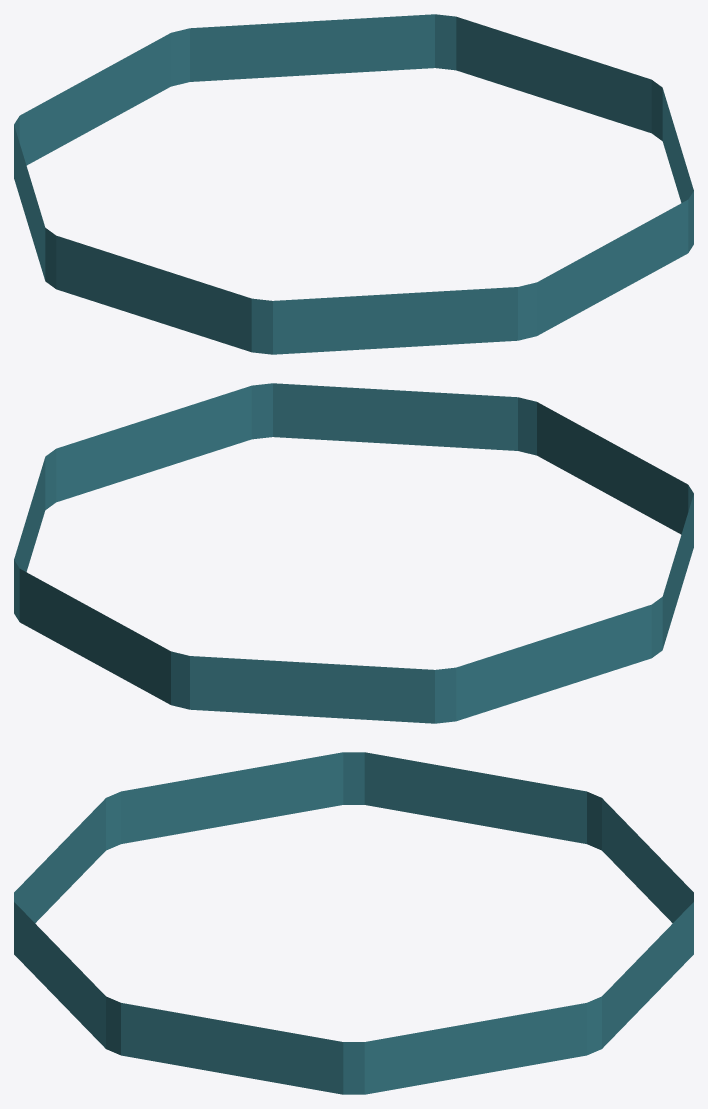
Rendered from Cenario_Jogo_Final_Paredes_True.fbx.
The picture shows the model from 3 angles, top to bottom: view 1: azimuth 30°, elevation 25°; view 2: azimuth 150°, elevation 25°; view 3: azimuth 270°, elevation 25°; orthographic projection. The views are drawn at different scales.
Parts seen in each view (by area): view 1: Paredes.real; view 2: Paredes.real; view 3: Paredes.real.
Part boxes in pixels (bbox=[...]): Paredes.real: bbox=[14, 14, 693, 354]; Paredes.real: bbox=[14, 383, 693, 723]; Paredes.real: bbox=[14, 752, 693, 1094].
Bounding box in the file's own units: 9527 × 808 × 9446.
